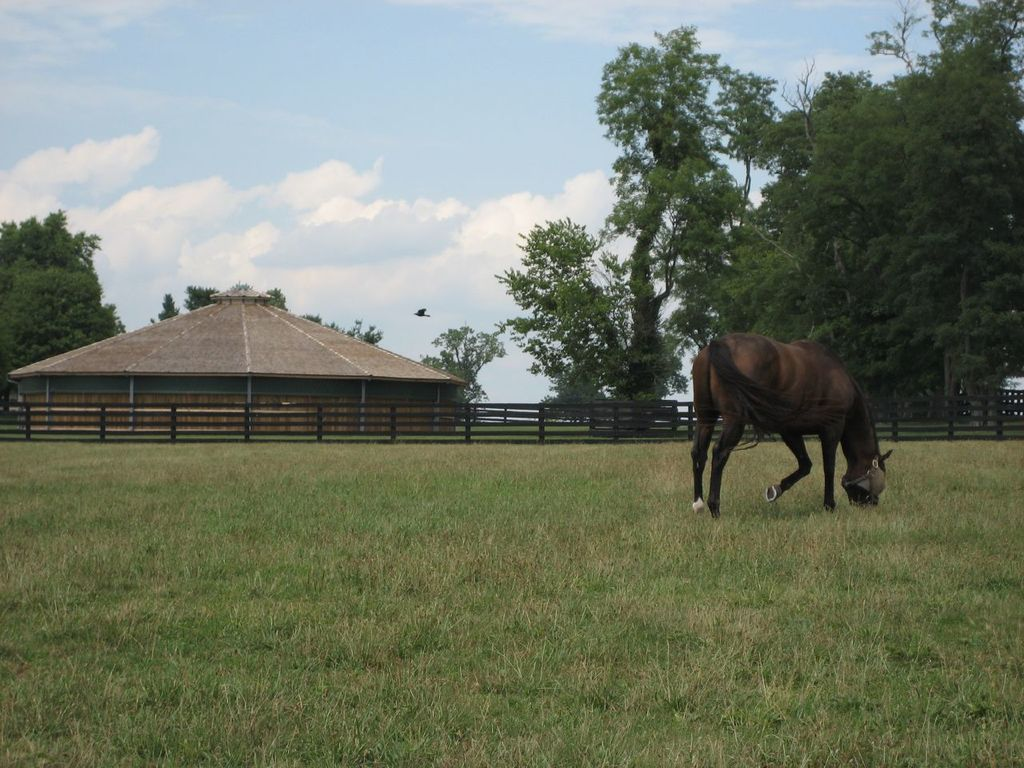horse: (692, 330, 892, 522)
